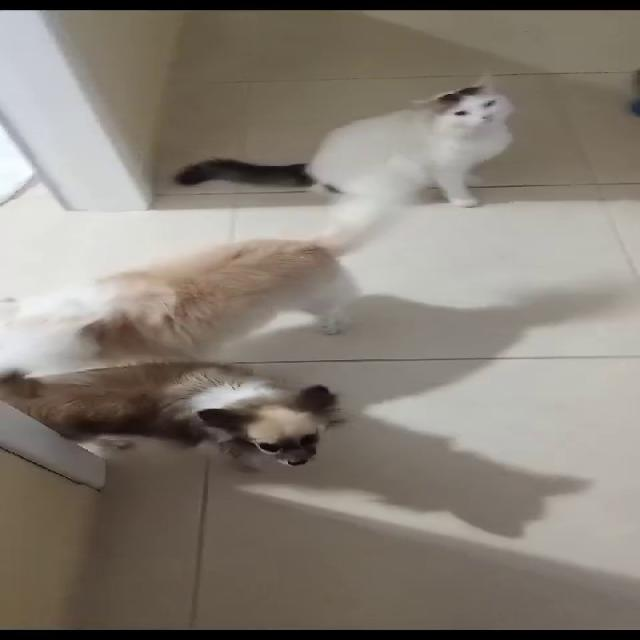Pedrita: (36, 337, 364, 476)
Simba: (296, 80, 526, 220)
Theo: (29, 202, 402, 379)
